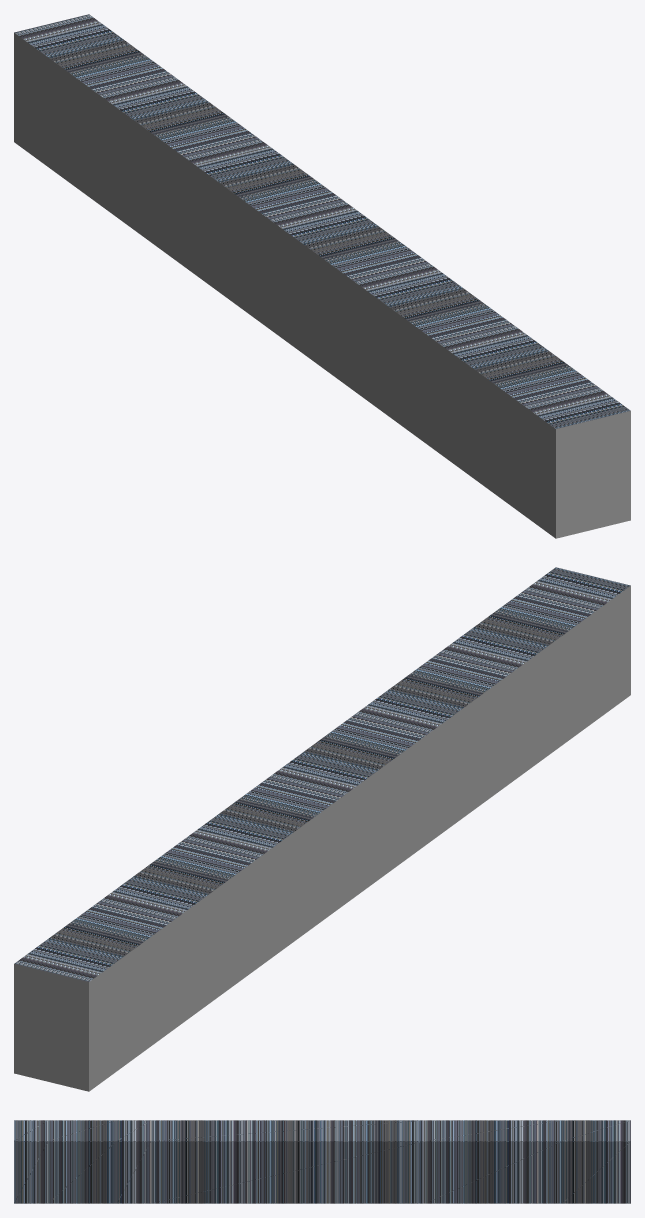
The model's file is someShit9.obj.
3 renders of one model, top to bottom at view 1: azimuth 30°, elevation 25°; view 2: azimuth 150°, elevation 25°; view 3: azimuth 270°, elevation 25°, orthographic. The views are drawn at different scales.
Visible parts, largest first — view 1: Plane.009_Plane.010; view 2: Plane.009_Plane.010; view 3: Plane.009_Plane.010.
Boxes of the visible parts, box(x1,y1,x2,y2) form: Plane.009_Plane.010: box(14, 14, 630, 538); Plane.009_Plane.010: box(14, 567, 630, 1091); Plane.009_Plane.010: box(14, 1120, 630, 1203).
Size of the model in its own units: 72.01 by 100 by 900.
2 materials, 1 textured.
